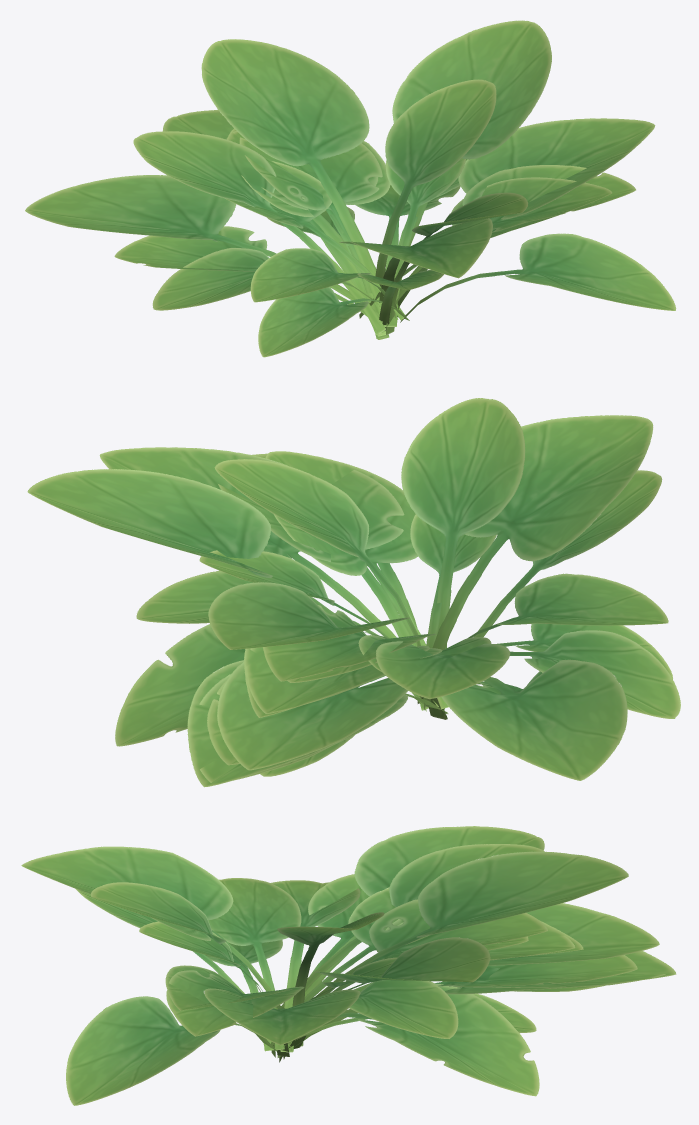
File: earPlant_mesh.fbx
3 views of the same model, one above another, from view 1: azimuth 30°, elevation 25°; view 2: azimuth 150°, elevation 25°; view 3: azimuth 270°, elevation 25° (orthographic). The views are drawn at different scales.
Visible parts, largest first — view 1: earPlant_boq1, earPlant_boq4, earPlant_boq5, earPlant_boq3, earPlant_boq2, earPlant_4b, earPlant_2b, earPlant_1b; view 2: earPlant_boq1, earPlant_boq4, earPlant_boq3, earPlant_boq2, earPlant_boq5, earPlant_4b, earPlant_2, earPlant_1b, earPlant_2b, earPlant_1, earPlant_4, earPlant_3b; view 3: earPlant_boq1, earPlant_boq5, earPlant_boq4, earPlant_boq2, earPlant_boq3, earPlant_4b, earPlant_4, earPlant_2, earPlant_1b, earPlant_1, earPlant_2b.
Part boxes in pixels (x1,y1,x2,y2): earPlant_boq1: (114, 79, 676, 357); earPlant_boq4: (357, 20, 635, 334); earPlant_boq5: (201, 39, 467, 315); earPlant_boq3: (25, 175, 398, 323); earPlant_boq2: (225, 158, 612, 320); earPlant_4b: (239, 137, 382, 313); earPlant_2b: (226, 128, 390, 339); earPlant_1b: (226, 131, 387, 339); earPlant_boq1: (99, 415, 672, 770); earPlant_boq4: (27, 398, 662, 711); earPlant_boq3: (260, 630, 680, 780); earPlant_boq2: (199, 451, 668, 708); earPlant_boq5: (136, 570, 409, 649); earPlant_4b: (263, 605, 444, 716); earPlant_2: (187, 660, 441, 787); earPlant_1b: (245, 645, 447, 719); earPlant_2b: (244, 648, 446, 719); earPlant_1: (199, 673, 448, 782); earPlant_4: (207, 680, 447, 765); earPlant_3b: (287, 659, 443, 718); earPlant_boq1: (21, 844, 659, 1105); earPlant_boq5: (316, 851, 628, 1038); earPlant_boq4: (76, 882, 490, 1057); earPlant_boq2: (139, 878, 429, 1050); earPlant_boq3: (271, 826, 544, 1052); earPlant_4b: (283, 899, 547, 1057); earPlant_4: (277, 955, 637, 1057); earPlant_2: (278, 951, 676, 1057); earPlant_1b: (279, 919, 575, 1060); earPlant_1: (279, 974, 665, 1056); earPlant_2b: (279, 919, 583, 1062).
Bounding box in the file's own units: 250 × 91.59 × 264.
